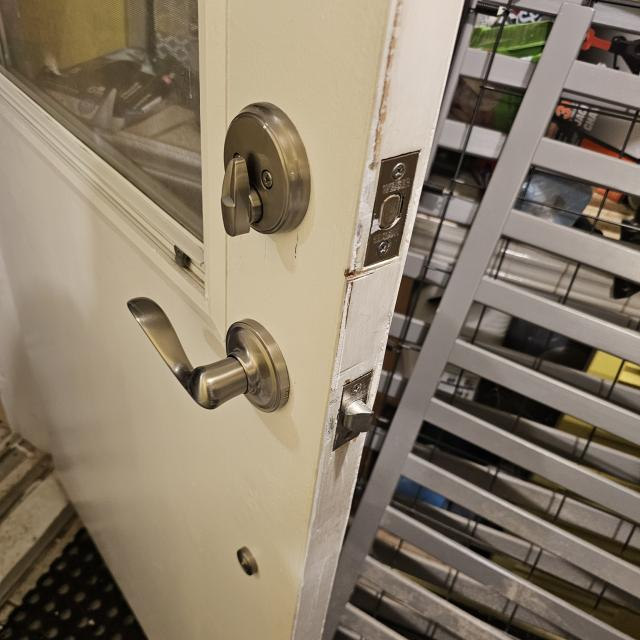door-handle: (128, 298, 290, 412)
